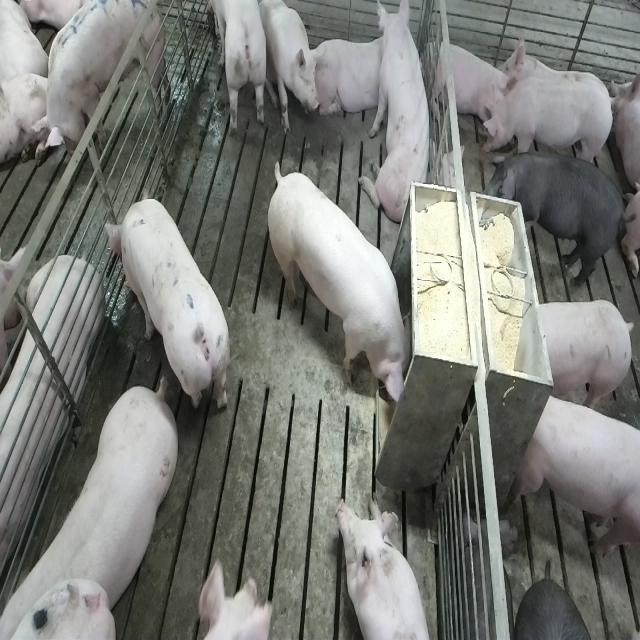Feeding: (272, 161, 421, 410)
Sitting: (364, 4, 436, 230), (260, 1, 320, 138)
Standing: (6, 372, 183, 633), (102, 194, 232, 420), (23, 0, 165, 156), (516, 388, 639, 568), (498, 144, 625, 284), (480, 73, 617, 167), (530, 296, 634, 413), (203, 1, 266, 141)
Sternal_lying: (0, 254, 101, 578), (334, 494, 434, 640), (427, 32, 510, 132), (188, 557, 282, 638), (312, 33, 388, 121)
